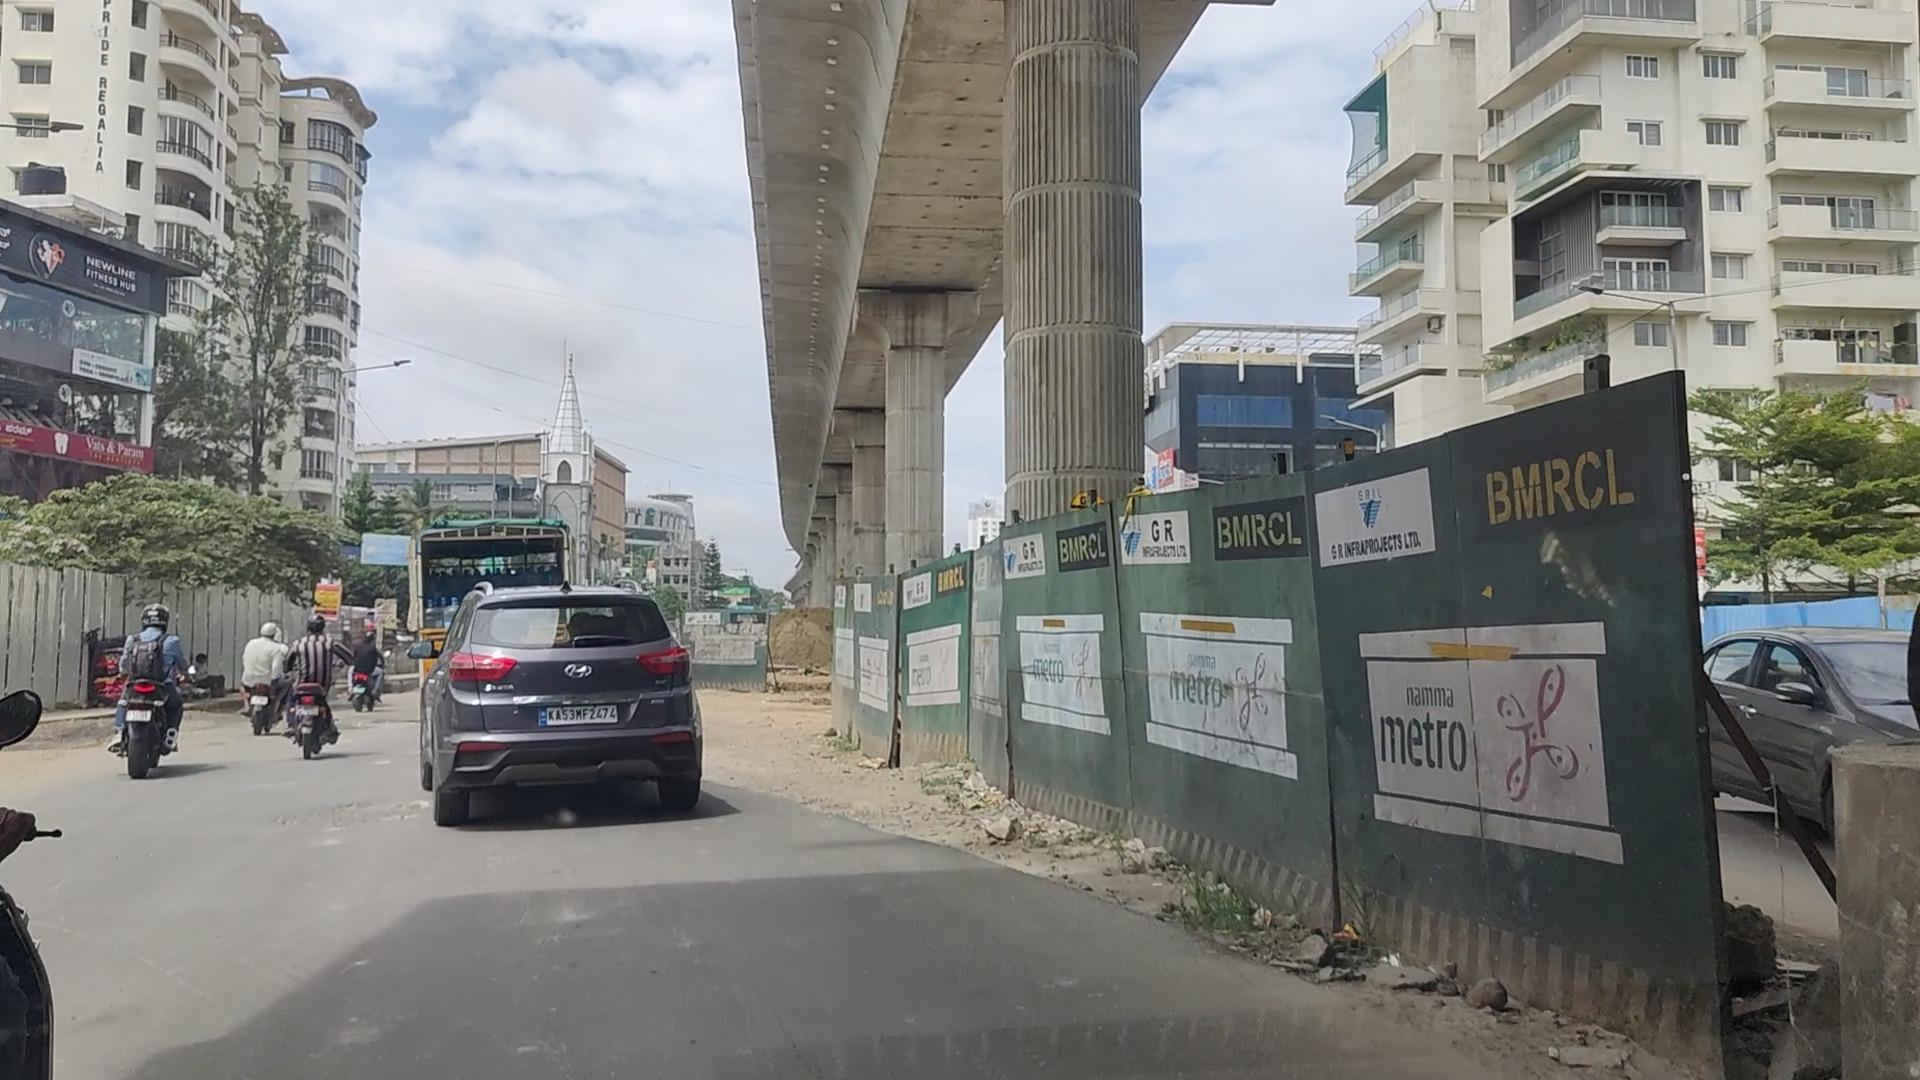LMV: (405, 592, 705, 823), (116, 605, 178, 779), (289, 613, 335, 761)
RoadDamages: (802, 764, 915, 868), (278, 800, 422, 833)
